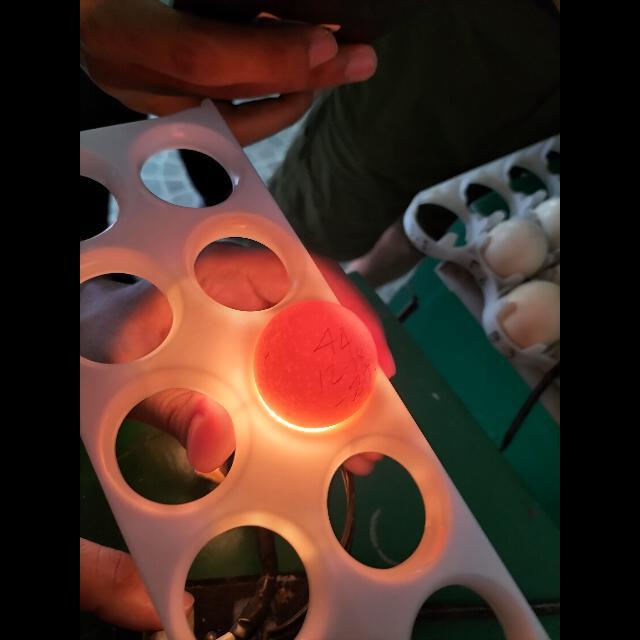Infertile: (257, 300, 377, 430)
